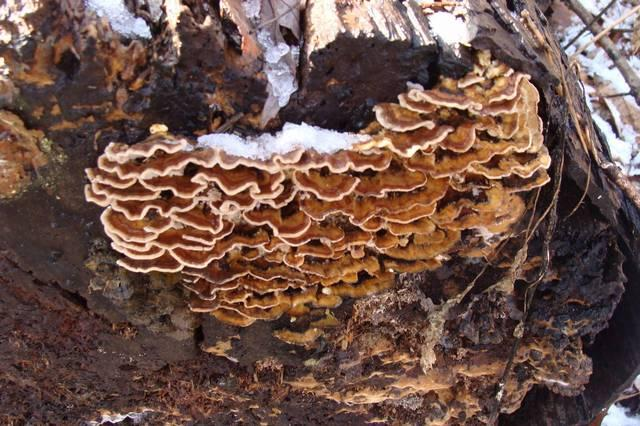poisonous_mushroom: (83, 48, 553, 328)
